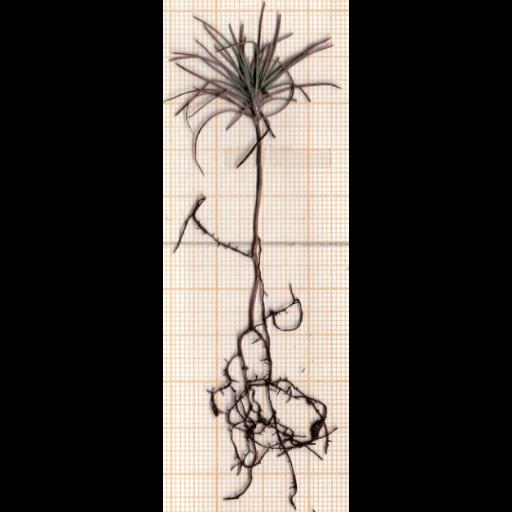flowerCedr: (169, 3, 340, 135)
rootCedr: (175, 198, 330, 508)
stemCedr: (251, 123, 263, 254)
